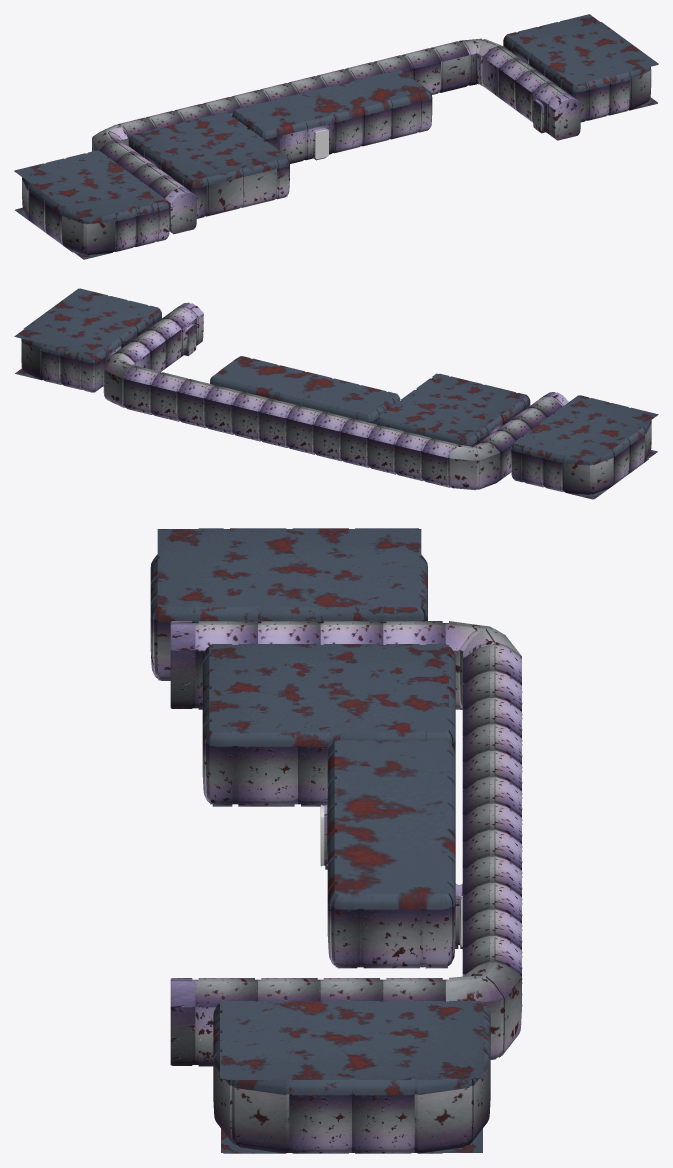
Rendered from sub_environment_textured_000.fbx.
The picture shows the model from 3 angles, top to bottom: view 1: azimuth 30°, elevation 25°; view 2: azimuth 150°, elevation 25°; view 3: azimuth 270°, elevation 25°; orthographic projection. The views are drawn at different scales.
Visible parts, largest first — view 1: ceiling.quarters.room, wall.ctrl.room.008, ceiling.storage, ceiling.engine.room, hall.ceiling.tile, wall.engine.room.002, wall.quarters.004, wall.corner.inside, hall.ceiling.tile.001, hall.ceiling.tile.002, wall.corner.outside.003, wall.ctrl.room.003 (+16 smaller); view 2: wall.hall.002, ceiling.quarters.room, wall.ctrl.room.008, ceiling.storage, ceiling.engine.room, hall.ceiling.tile, hall.ceiling.tile.001, hall.ceiling.tile.002, wall.corner.outside.004, wall.corner.outside.002, wall.ctrl.room.002, wall.storage.007 (+10 smaller); view 3: ceiling.storage, ceiling.quarters.room, wall.ctrl.room.008, ceiling.engine.room, hall.ceiling.tile, wall.ctrl.room.001, hall.ceiling.tile.001, hall.ceiling.tile.002, wall.quarters.000, wall.corner.outside.000, wall.corner.outside.001, wall.engine.room.001 (+10 smaller).
Part boxes in pixels (x1=…): ceiling.quarters.room: x1=128, y1=112, x2=289, y2=188; wall.ctrl.room.008: x1=503, y1=14, x2=658, y2=92; ceiling.storage: x1=14, y1=150, x2=169, y2=224; ceiling.engine.room: x1=232, y1=69, x2=431, y2=138; hall.ceiling.tile: x1=117, y1=41, x2=469, y2=137; wall.engine.room.002: x1=333, y1=101, x2=419, y2=153; wall.quarters.004: x1=205, y1=168, x2=277, y2=216; wall.corner.inside: x1=439, y1=53, x2=500, y2=98; hall.ceiling.tile.001: x1=483, y1=46, x2=573, y2=104; hall.ceiling.tile.002: x1=99, y1=139, x2=189, y2=197; wall.corner.outside.003: x1=62, y1=216, x2=115, y2=254; wall.ctrl.room.003: x1=586, y1=79, x2=629, y2=120; wall.hall.002: x1=124, y1=378, x2=450, y2=487; ceiling.quarters.room: x1=376, y1=373, x2=530, y2=445; wall.ctrl.room.008: x1=14, y1=288, x2=161, y2=363; ceiling.storage: x1=511, y1=395, x2=658, y2=465; ceiling.engine.room: x1=210, y1=356, x2=400, y2=421; hall.ceiling.tile: x1=124, y1=365, x2=459, y2=457; hall.ceiling.tile.001: x1=111, y1=307, x2=196, y2=362; hall.ceiling.tile.002: x1=478, y1=396, x2=562, y2=451; wall.corner.outside.004: x1=562, y1=457, x2=613, y2=494; wall.corner.outside.002: x1=449, y1=453, x2=499, y2=490; wall.ctrl.room.002: x1=41, y1=351, x2=83, y2=389; wall.storage.007: x1=523, y1=453, x2=564, y2=491; ceiling.storage: x1=150, y1=528, x2=427, y2=622; ceiling.quarters.room: x1=202, y1=644, x2=455, y2=746; wall.ctrl.room.008: x1=213, y1=1001, x2=490, y2=1095; ceiling.engine.room: x1=327, y1=740, x2=455, y2=909; hall.ceiling.tile: x1=462, y1=645, x2=521, y2=974; wall.ctrl.room.001: x1=289, y1=1094, x2=414, y2=1153; hall.ceiling.tile.001: x1=195, y1=978, x2=445, y2=1007; hall.ceiling.tile.002: x1=195, y1=621, x2=445, y2=650; wall.quarters.000: x1=235, y1=746, x2=330, y2=805; wall.corner.outside.000: x1=414, y1=1065, x2=490, y2=1153; wall.corner.outside.001: x1=213, y1=1065, x2=289, y2=1153; wall.engine.room.001: x1=360, y1=909, x2=422, y2=968.
Size of the model in its own units: 5280 by 343 by 1488.
